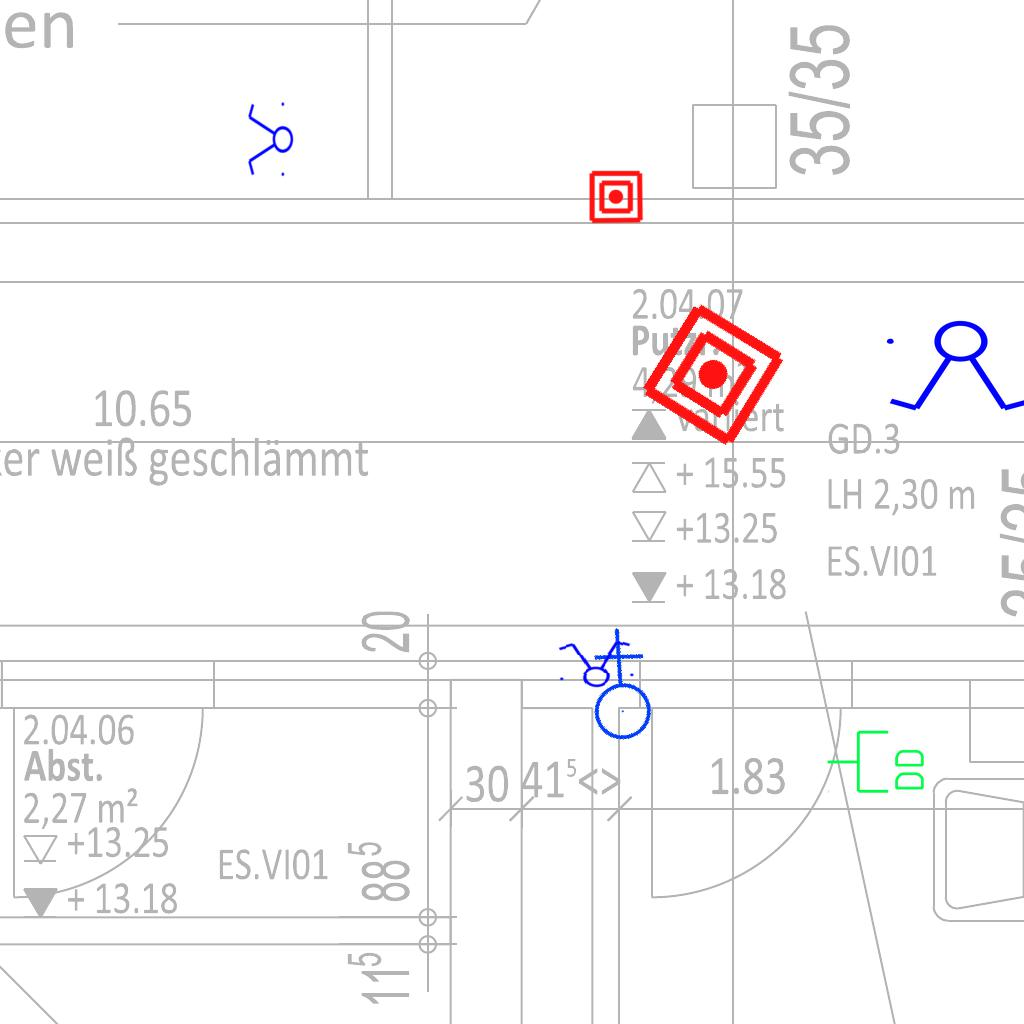Datenanschluss_zweifach: (825, 728, 928, 797)
Elektroanschluss_allgemein_230V_Geraeteanschlussdose_230V: (549, 622, 686, 760)
NAM-Nichtautomatischer_Melder: (635, 296, 792, 453), (588, 169, 644, 225)
Serienschalter: (878, 319, 1024, 415), (551, 637, 639, 691), (246, 98, 294, 182)
